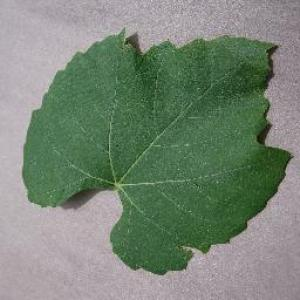Folha: (21, 26, 292, 275)
